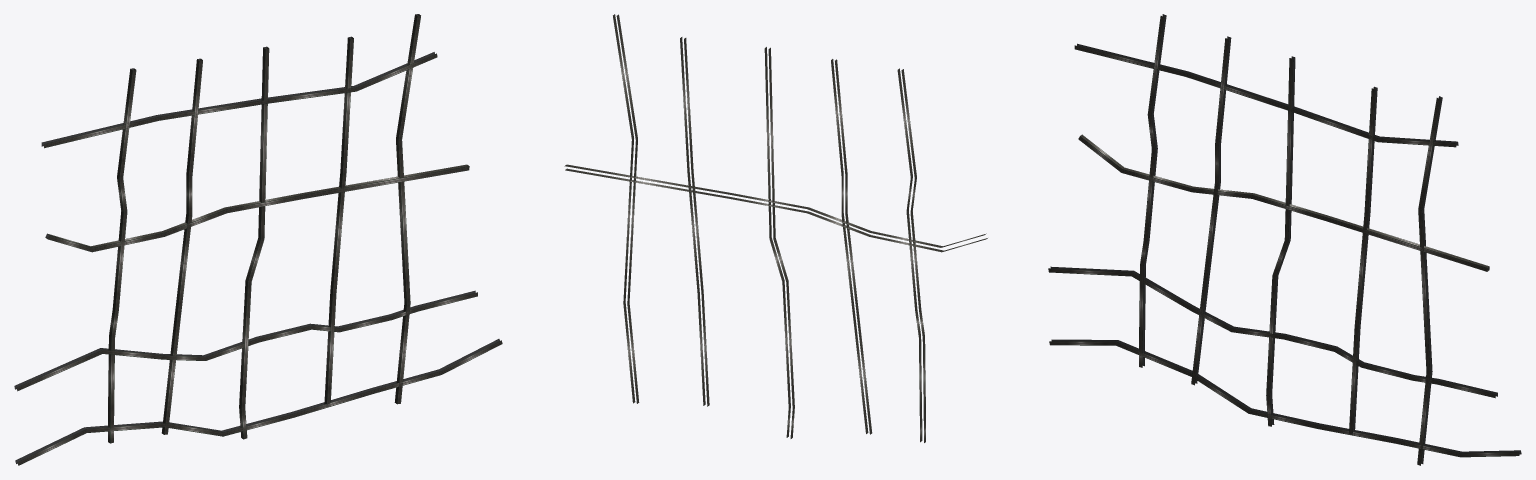
The picture shows the model from 3 angles, left to right: view 1: azimuth 30°, elevation 25°; view 2: azimuth 150°, elevation 25°; view 3: azimuth 330°, elevation 25°; orthographic projection. The views are drawn at different scales.
Parts seen in each view (by area): view 1: Group__Geometry_12, Group__Geometry_4, Group__Geometry_8, Group__Geometry_2, Group__Geometry_0, Group__Geometry_6, Group__Geometry_16, Group__Geometry_14, Group__Geometry_10, Group__Geometry_17, Group__Geometry_15, Group__Geometry_11; view 2: Group__Geometry_4, Group__Geometry_8, Group__Geometry_2, Group__Geometry_12, Group__Geometry_0, Group__Geometry_6; view 3: Group__Geometry_12, Group__Geometry_16, Group__Geometry_14, Group__Geometry_10, Group__Geometry_8, Group__Geometry_4, Group__Geometry_0, Group__Geometry_2, Group__Geometry_6, Group__Geometry_17, Group__Geometry_15, Group__Geometry_11 (+5 smaller).
Boxes of the visible parts, <box> form: Group__Geometry_12: <box>46,164,469,252</box>; Group__Geometry_4: <box>239,47,269,439</box>; Group__Geometry_8: <box>394,14,420,404</box>; Group__Geometry_2: <box>161,59,202,434</box>; Group__Geometry_0: <box>108,68,136,443</box>; Group__Geometry_6: <box>324,37,353,406</box>; Group__Geometry_16: <box>17,340,502,465</box>; Group__Geometry_14: <box>16,292,477,391</box>; Group__Geometry_10: <box>44,53,437,148</box>; Group__Geometry_17: <box>15,339,499,463</box>; Group__Geometry_15: <box>14,290,475,389</box>; Group__Geometry_11: <box>41,52,434,146</box>; Group__Geometry_4: <box>764,47,794,438</box>; Group__Geometry_8: <box>613,14,639,403</box>; Group__Geometry_2: <box>831,59,872,434</box>; Group__Geometry_12: <box>564,164,987,252</box>; Group__Geometry_0: <box>897,68,925,442</box>; Group__Geometry_6: <box>680,37,709,406</box>; Group__Geometry_12: <box>1078,134,1489,271</box>; Group__Geometry_16: <box>1049,341,1519,457</box>; Group__Geometry_14: <box>1048,268,1495,398</box>; Group__Geometry_10: <box>1074,45,1456,147</box>; Group__Geometry_8: <box>1417,98,1440,465</box>; Group__Geometry_4: <box>1266,58,1293,426</box>; Group__Geometry_0: <box>1139,16,1164,367</box>; Group__Geometry_2: <box>1191,38,1228,385</box>; Group__Geometry_6: <box>1349,88,1375,434</box>; Group__Geometry_17: <box>1051,339,1521,454</box>; Group__Geometry_15: <box>1050,266,1497,396</box>; Group__Geometry_11: <box>1077,43,1458,145</box>.
Bounding box in the file's own units: 615 × 482 × 5.
Materials: 2 (2 with a texture image).
